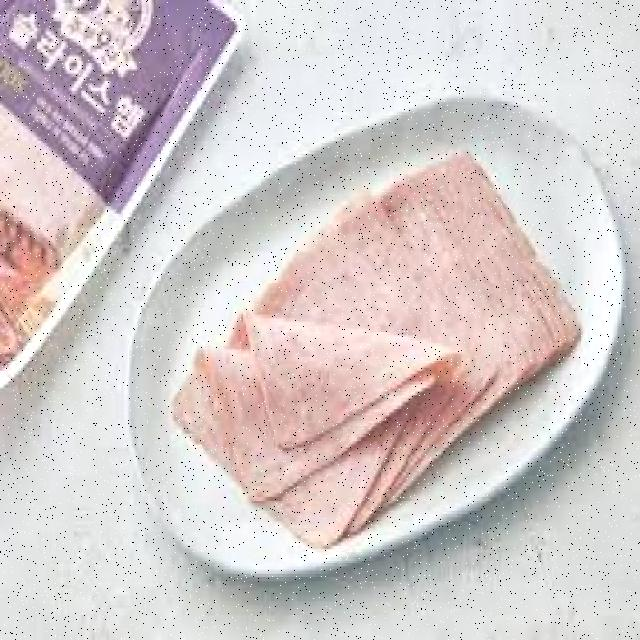Ham: (135, 68, 572, 577)
